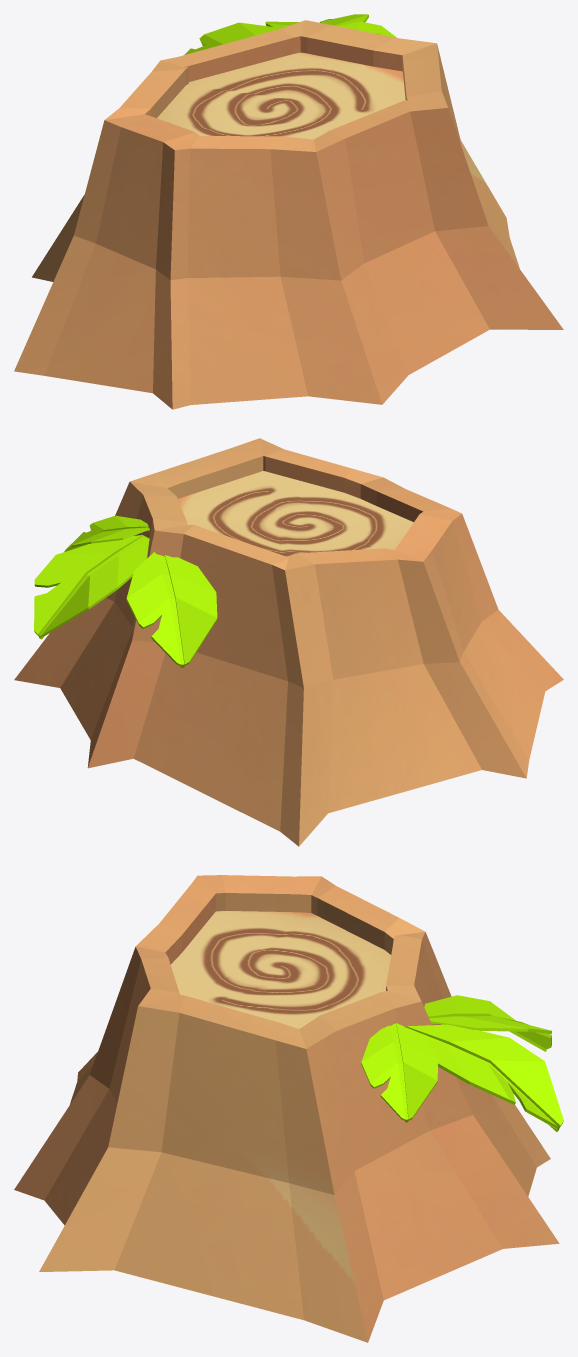
Rendered from tree cut.fbx.
3 views of the same model, one above another, from view 1: azimuth 30°, elevation 25°; view 2: azimuth 150°, elevation 25°; view 3: azimuth 270°, elevation 25° (orthographic). The views are drawn at different scales.
Visible parts, largest first — view 1: tree cut.003; view 2: tree cut.003; view 3: tree cut.003.
Part boxes in pixels (<box>): tree cut.003: <box>14,14,563,409</box>; tree cut.003: <box>14,438,563,846</box>; tree cut.003: <box>14,875,563,1342</box>.
Size of the model in its own units: 127 by 58.12 by 105.
2 materials, 1 textured.
